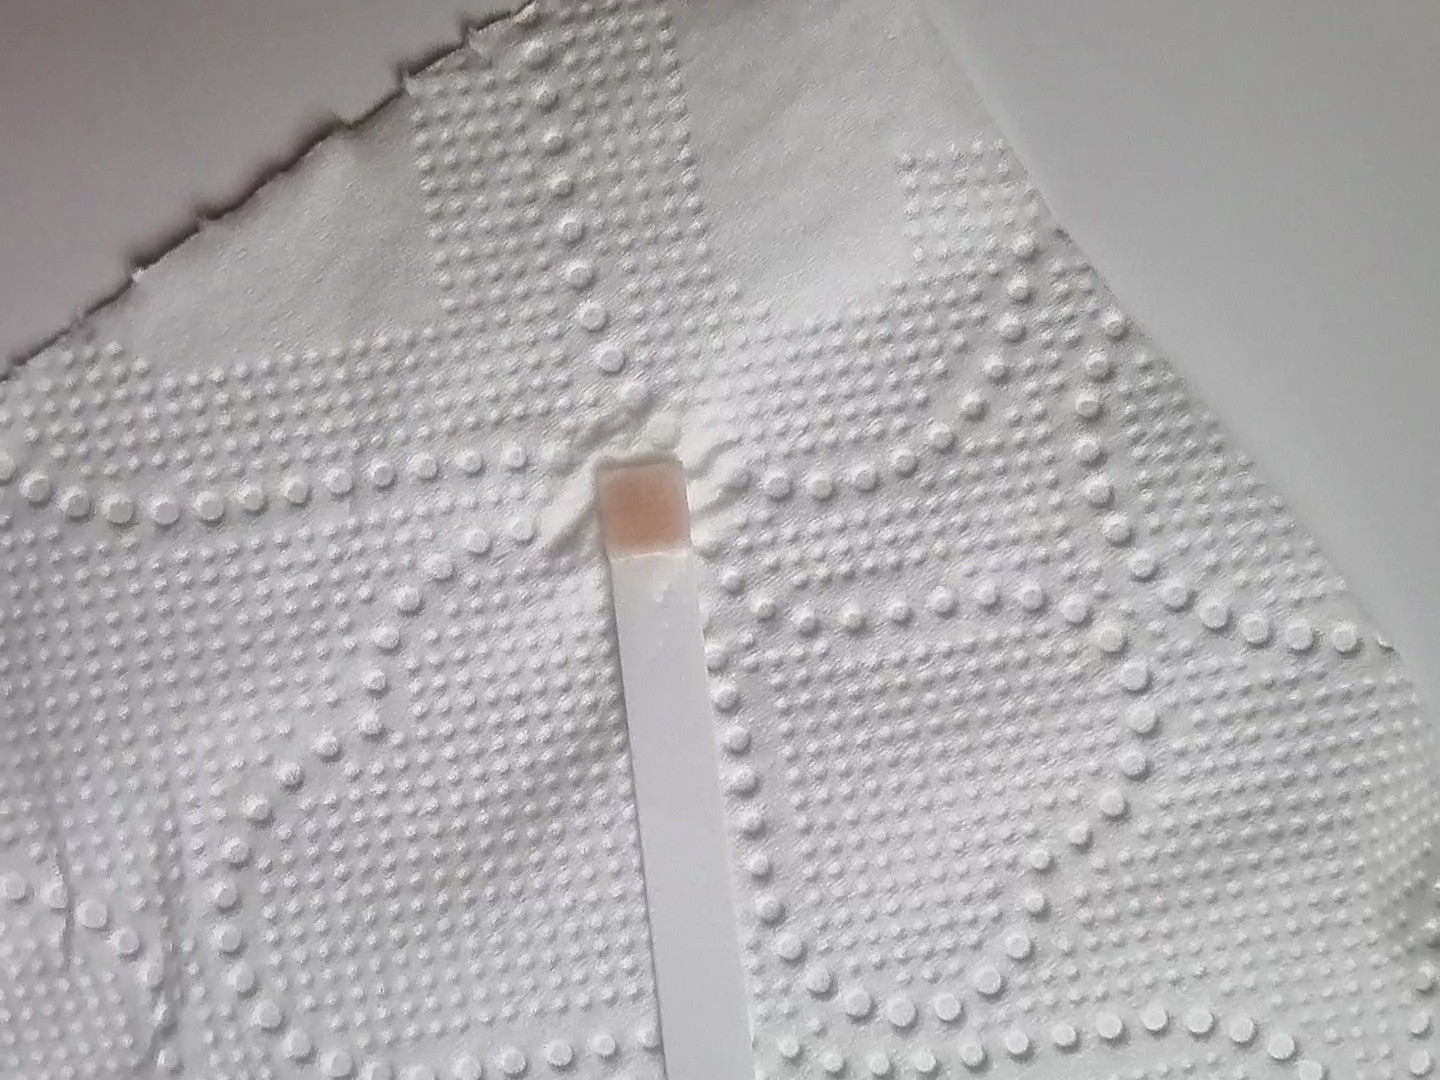keto-tip: (591, 457, 698, 565)
